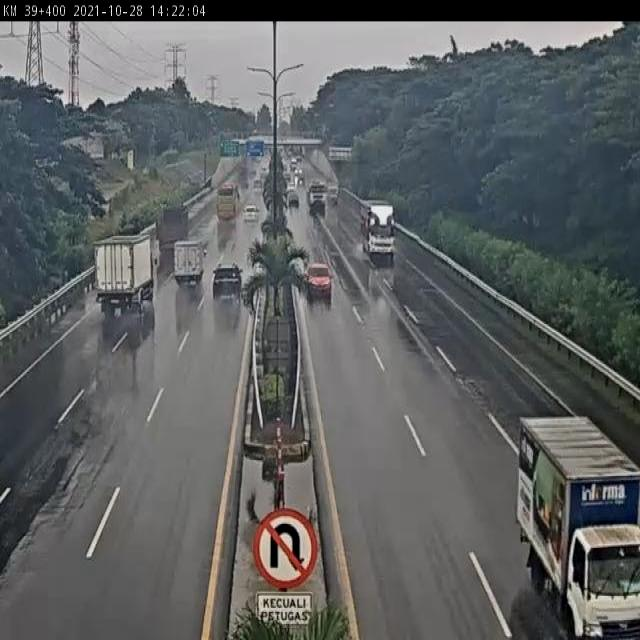Bus: (216, 182, 239, 221)
Car: (211, 262, 242, 300), (305, 263, 334, 300), (242, 204, 261, 224), (288, 193, 299, 209), (286, 182, 296, 192), (254, 179, 264, 189)
Truck: (513, 412, 640, 640), (93, 232, 158, 316), (360, 202, 396, 266), (172, 238, 207, 287), (156, 204, 190, 252), (307, 181, 326, 209)
